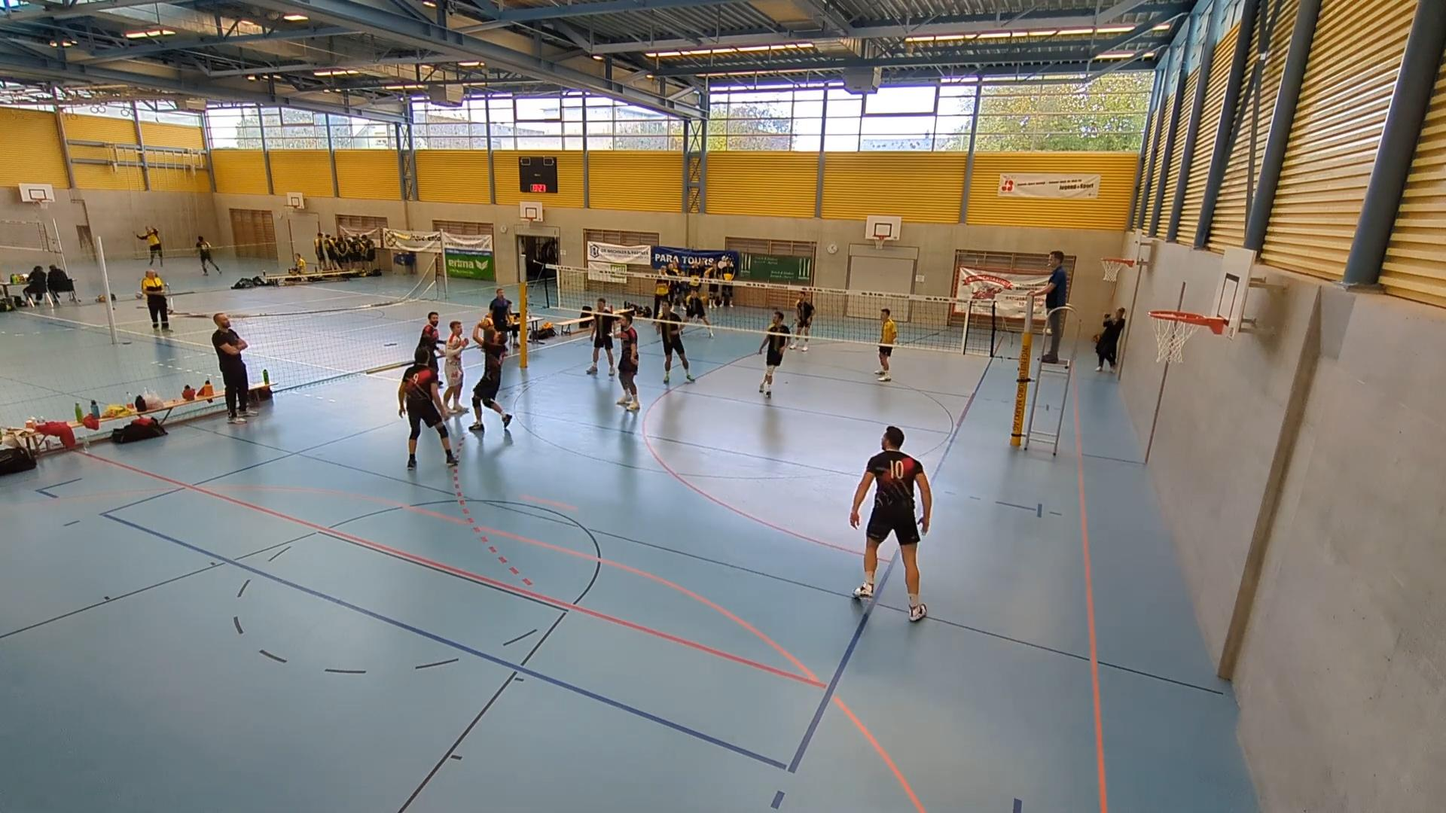Player: (850, 427, 931, 621), (398, 349, 456, 468), (469, 317, 511, 432), (656, 303, 694, 383), (759, 311, 789, 397), (442, 321, 468, 414), (616, 312, 639, 411), (586, 298, 615, 376), (685, 282, 713, 336), (876, 309, 897, 381), (791, 290, 815, 352), (417, 312, 441, 370)
Set: (467, 320, 514, 436)
